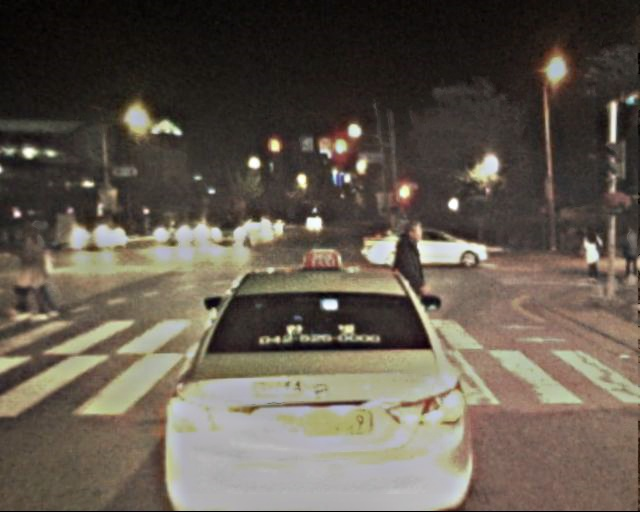person: (387, 220, 437, 342), (10, 217, 61, 321), (580, 227, 603, 284), (618, 226, 640, 280)
